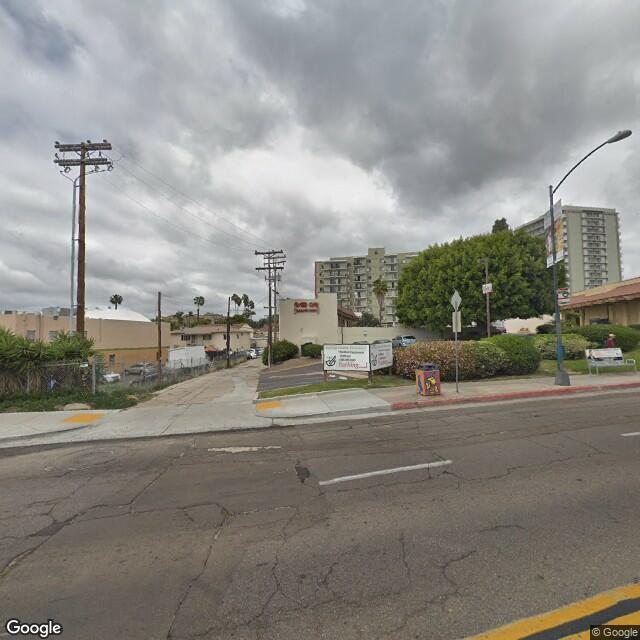light: (609, 128, 632, 147)
road line: (296, 443, 466, 501)
